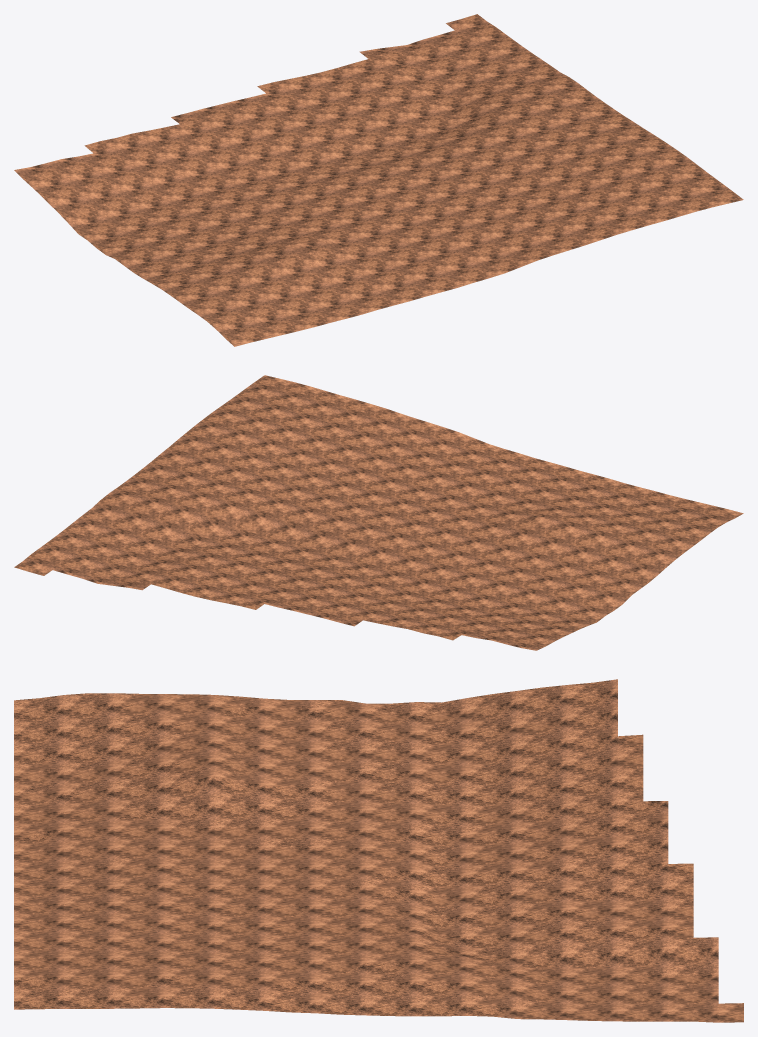
File: terrain_12_19.dae
3 renders of one model, top to bottom at view 1: azimuth 30°, elevation 25°; view 2: azimuth 150°, elevation 25°; view 3: azimuth 270°, elevation 25°, orthographic. The views are drawn at different scales.
Visible parts, largest first — view 1: terrain_12_19-node; view 2: terrain_12_19-node; view 3: terrain_12_19-node.
Boxes of the visible parts, x1,y1,x2,y2 form: terrain_12_19-node: [14, 14, 743, 346]; terrain_12_19-node: [14, 375, 743, 650]; terrain_12_19-node: [14, 679, 743, 1022].
Size of the model in its own units: 128 by 116 by 6.45.
Materials: 1 (1 with a texture image).
